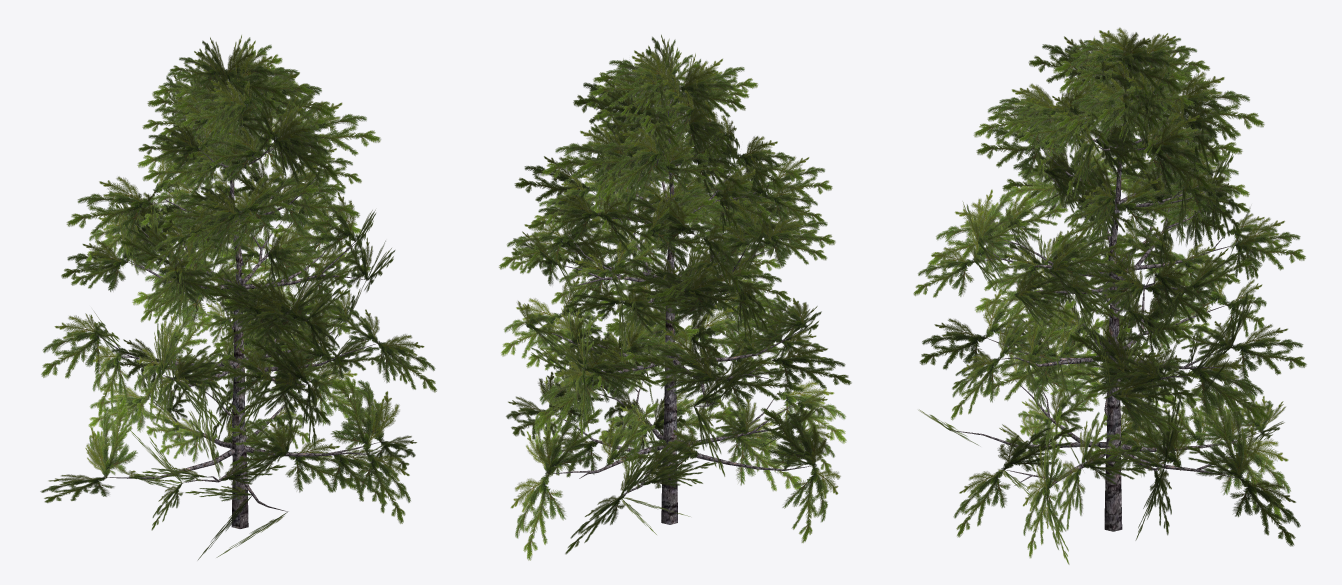
File: sosna.glb
The picture shows the model from 3 angles, left to right: view 1: azimuth 30°, elevation 25°; view 2: azimuth 150°, elevation 25°; view 3: azimuth 270°, elevation 25°; orthographic projection. The views are drawn at different scales.
Parts seen in each view (by area): view 1: ve1.118, tree; view 2: ve1.118, tree; view 3: ve1.118, tree.
Boxes of the visible parts, left/top/right/bottom form: ve1.118: left=40, top=35, right=436, bottom=560; tree: left=96, top=88, right=380, bottom=528; ve1.118: left=499, top=34, right=851, bottom=560; tree: left=548, top=87, right=812, bottom=524; ve1.118: left=913, top=27, right=1306, bottom=564; tree: left=949, top=62, right=1260, bottom=531.
Size of the model in its own units: 4.27 by 5.47 by 4.14.
2 materials, 2 textured.
